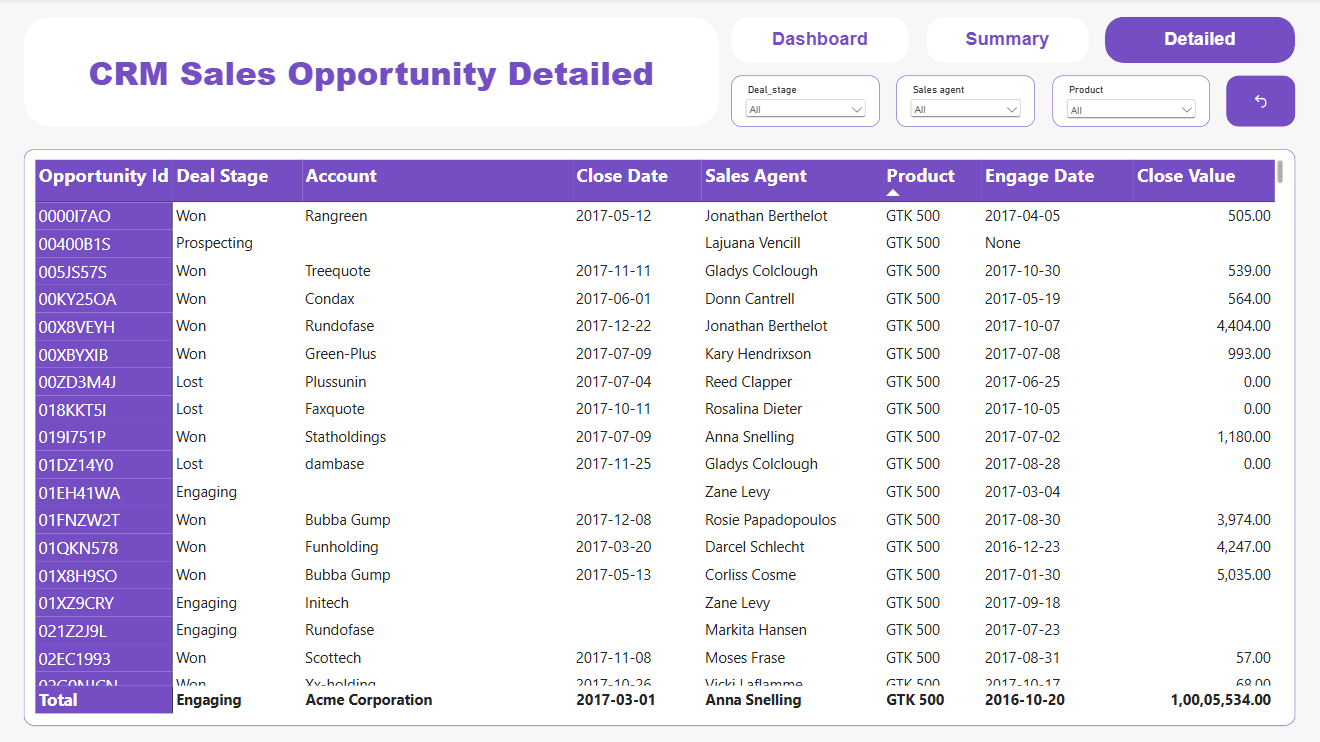

The page's visual inventory and layout, read from the dashboard file:
{"tool":"powerbi","page":{"name":"Detailed","canvas":[1920,1080],"ordinal":2},"visuals":[{"type":"slicer","fields":{"Values":["crm products.product"]},"box":[1523.2,112.5,228,74],"z":0,"group":"g1"},{"type":"pivotTable","fields":{"Rows":["crm sales_pipeline.opportunity_id"],"Values":["Min(crm sales_pipeline.deal_stage)","Min(crm sales_pipeline.account)","Min(crm sales_pipeline.close_date_date)","Min(crm sales_pipeline.sales_agent)","Min(crm products.product)","Min(crm sales_pipeline.engage_date)","Sum(crm sales_pipeline.close_value)"]},"box":[34.4,219,1840.4,834.3],"z":1},{"type":"actionButton","box":[1058.7,27.1,257,67],"z":2},{"type":"group","id":"g1","title":"Group 1","box":[1058.8,112.4,816.5,74.2],"z":4},{"type":"shape","box":[34.4,27.1,1006.2,159.3],"z":5},{"type":"actionButton","box":[1340.1,27.1,235.3,67],"z":7},{"type":"actionButton","box":[1599.7,27.1,275.1,67],"z":9},{"type":"slicer","fields":{"Values":["crm sales_pipeline.deal_stage"]},"box":[1058.8,112.5,215.3,74],"z":1000,"group":"g1"},{"type":"slicer","fields":{"Values":["crm sales_pipeline.sales_agent"]},"box":[1298.2,112.4,200.9,74.2],"z":2000,"group":"g1"},{"type":"actionButton","box":[1775.3,112.5,100,74],"z":3000,"group":"g1"}]}

Visuals, with their boxes in screenshot pixels (x1, y1, x2, y2), scaled from the page's 1920x1080 canvas onto the 1320x742 screenshot:
slicer - crm products.product: pyautogui.locateOnScreen(1047, 77, 1204, 128)
pivotTable - crm sales_pipeline.opportunity_id x Min(crm sales_pipeline.deal_stage): pyautogui.locateOnScreen(24, 150, 1289, 724)
actionButton: pyautogui.locateOnScreen(728, 19, 905, 65)
"Group 1" group: pyautogui.locateOnScreen(728, 77, 1289, 128)
shape: pyautogui.locateOnScreen(24, 19, 715, 128)
actionButton: pyautogui.locateOnScreen(921, 19, 1083, 65)
actionButton: pyautogui.locateOnScreen(1100, 19, 1289, 65)
slicer - crm sales_pipeline.deal_stage: pyautogui.locateOnScreen(728, 77, 876, 128)
slicer - crm sales_pipeline.sales_agent: pyautogui.locateOnScreen(893, 77, 1031, 128)
actionButton: pyautogui.locateOnScreen(1221, 77, 1289, 128)
